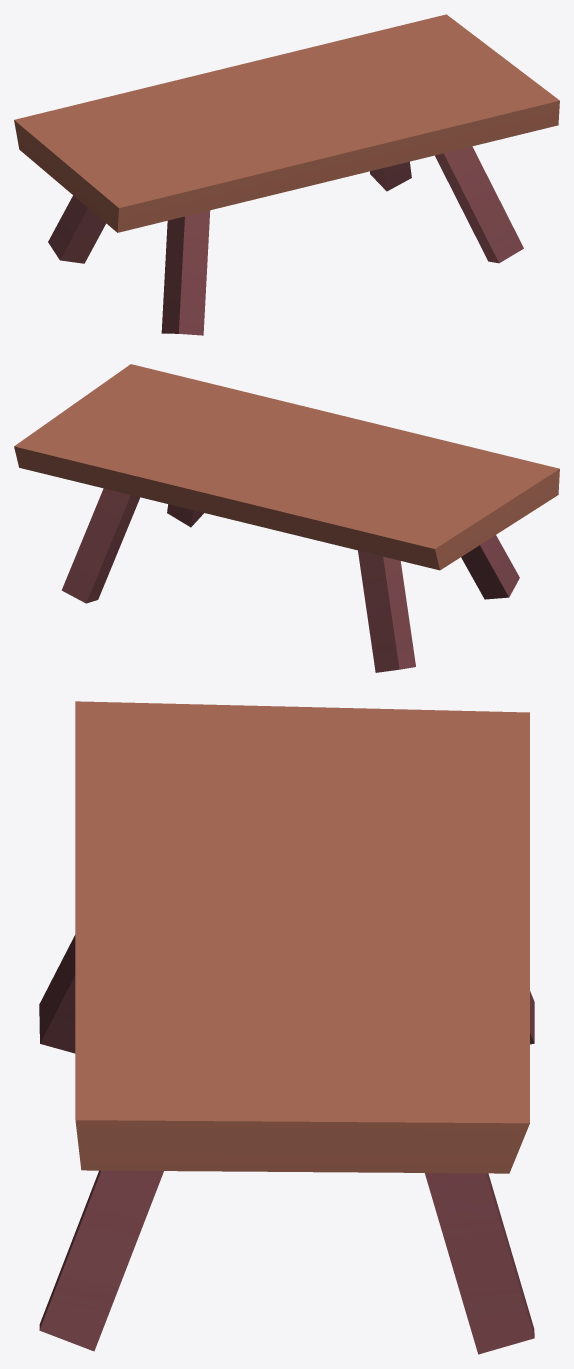
Rendered from village_table.gltf.
The picture shows the model from 3 angles, top to bottom: view 1: azimuth 30°, elevation 25°; view 2: azimuth 150°, elevation 25°; view 3: azimuth 270°, elevation 25°; orthographic projection. The views are drawn at different scales.
Visible parts, largest first — view 1: Picnic Table_Material.005_0 (×10); view 2: Picnic Table_Material.005_0 (×9); view 3: Picnic Table_Material.005_0 (×6).
Part boxes in pixels (<box>): Picnic Table_Material.005_0 (×10): <box>14,14,559,335</box>; Picnic Table_Material.005_0 (×9): <box>14,364,559,672</box>; Picnic Table_Material.005_0 (×6): <box>39,701,534,1354</box>.
Bounding box in the file's own units: 0.7909 × 0.2546 × 0.3924.
Materials: 1 (1 with a texture image).
